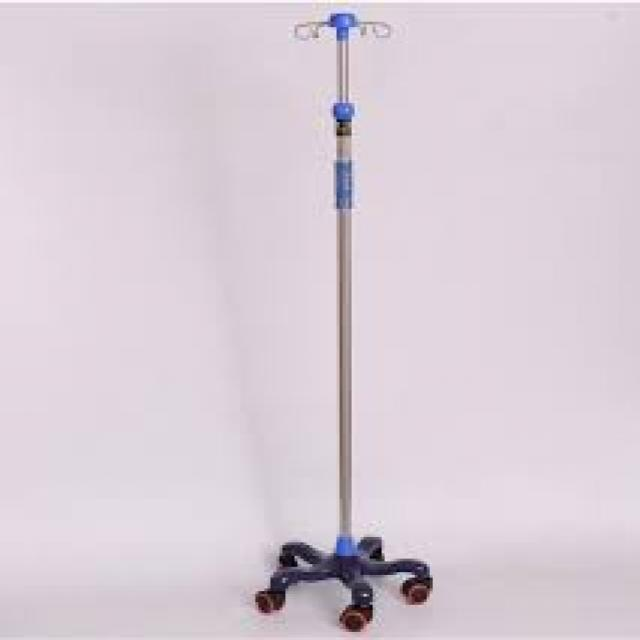iv_fluids: (290, 23, 426, 559)
